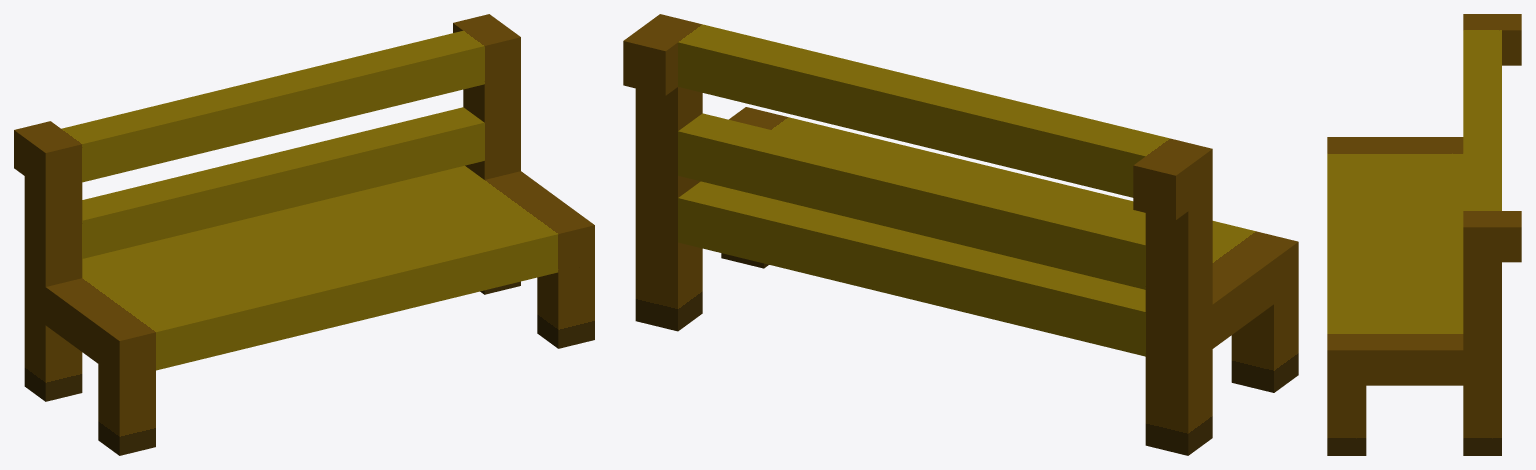
Rendered from chair.dae.
3 renders of one model, left to right at view 1: azimuth 30°, elevation 25°; view 2: azimuth 150°, elevation 25°; view 3: azimuth 270°, elevation 25°, orthographic. The views are drawn at different scales.
Visible parts, largest first — view 1: pizza_men_33; view 2: pizza_men_33; view 3: pizza_men_33.
Part boxes in pixels (x1,y1,x2,y2): pizza_men_33: (14,14,594,455); pizza_men_33: (623,14,1298,455); pizza_men_33: (1327,14,1521,455).
Size of the model in its own units: 26 by 13 by 10.
1 material, 1 textured.
